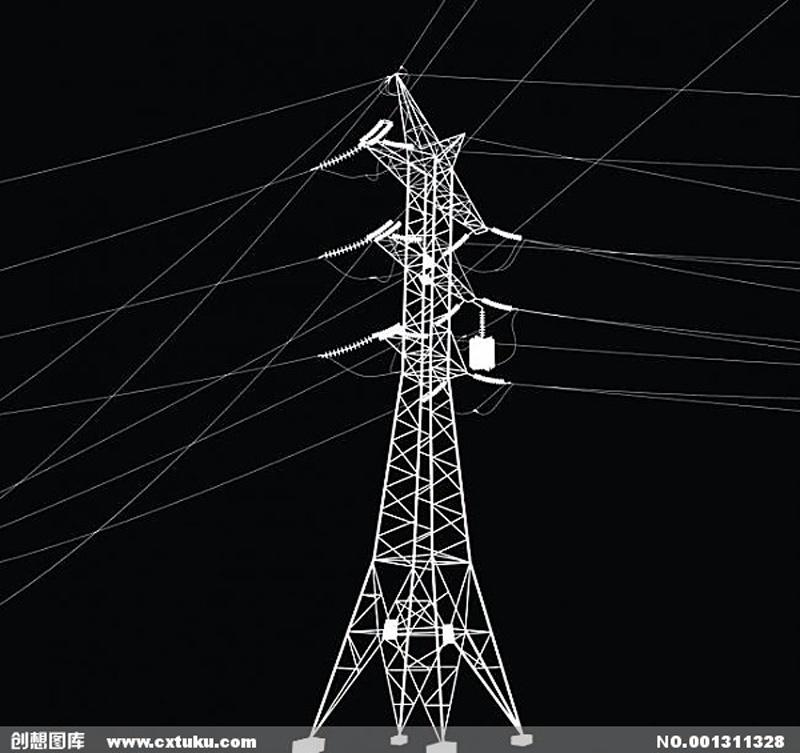power_tower: (263, 59, 559, 735)
